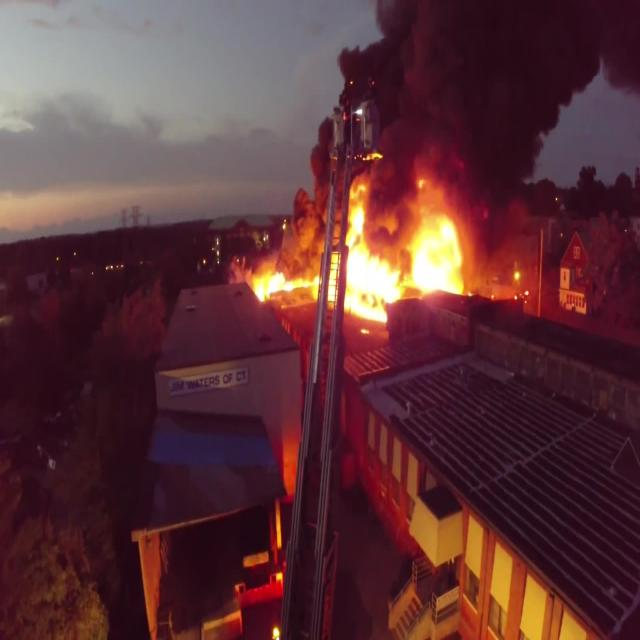Fire: (251, 182, 484, 324)
Smoke: (342, 0, 640, 167)
